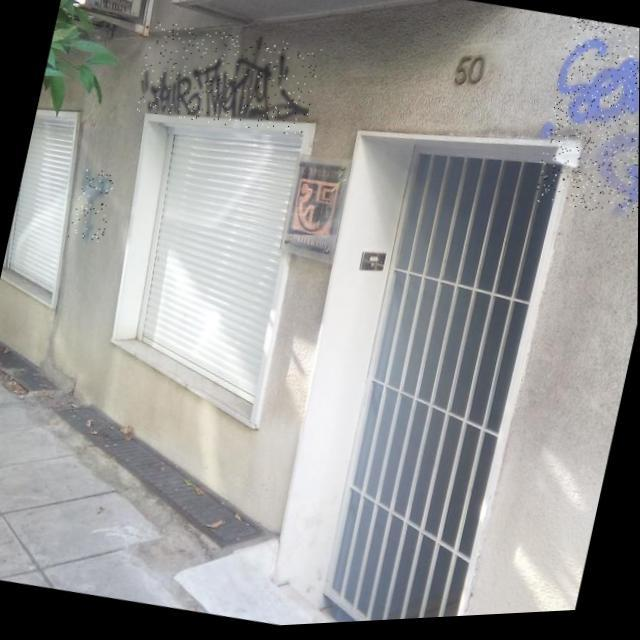-: (133, 14, 322, 148), (530, 20, 640, 233), (68, 167, 118, 244)
